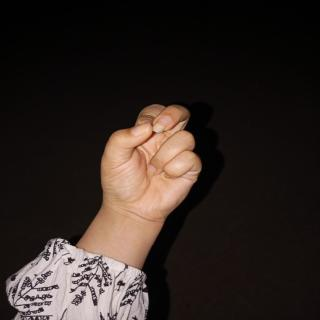QAAF: (89, 97, 211, 234)
